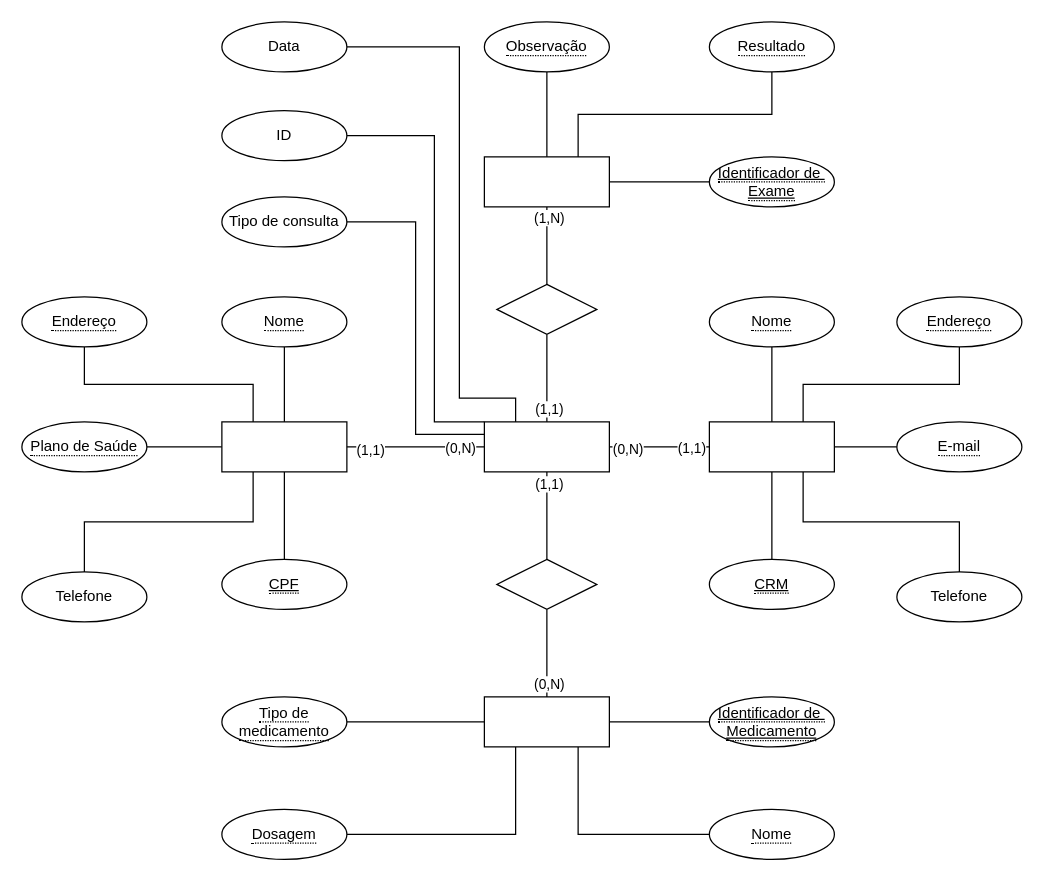
Some shapes in this 1044 by 881 pixel diagram are drawn without their labels. The box of each missing label's shape, as (x1, y1, x2, y2) in pixels:
Consulta: (483, 421, 609, 472)
Exame: (483, 156, 609, 207)
Medicamentos: (483, 696, 609, 747)
Médicos: (708, 421, 834, 472)
Pacientes: (221, 421, 347, 472)
